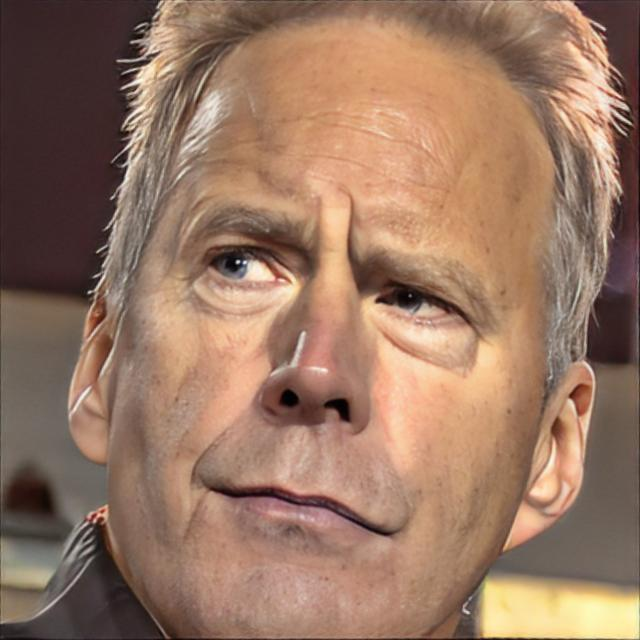content: (120, 46, 557, 629)
